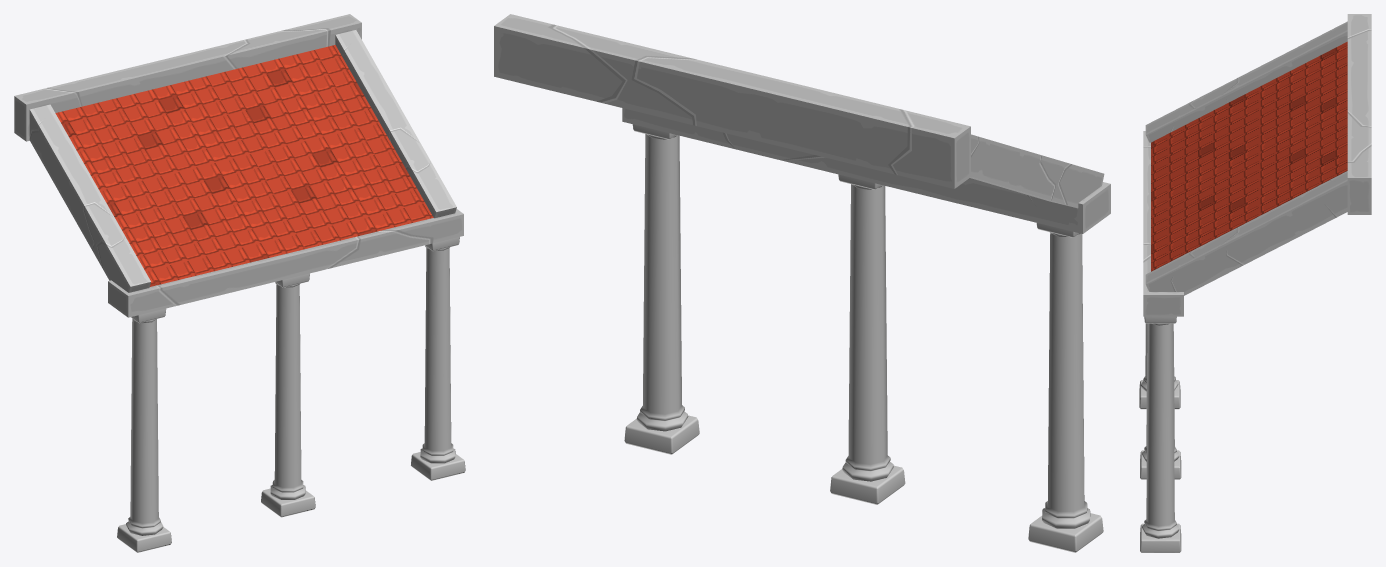
The model's file is LeanTo1.fbx.
3 views of the same model, side by side, from view 1: azimuth 30°, elevation 25°; view 2: azimuth 150°, elevation 25°; view 3: azimuth 270°, elevation 25° (orthographic). The views are drawn at different scales.
Visible parts, largest first — view 1: LeanTo1; view 2: LeanTo1; view 3: LeanTo1.
Boxes of the visible parts, bbox=[...] form: LeanTo1: bbox=[14, 14, 465, 552]; LeanTo1: bbox=[494, 14, 1110, 552]; LeanTo1: bbox=[1139, 14, 1371, 552].
Size of the model in its own units: 674 by 716 by 402.
